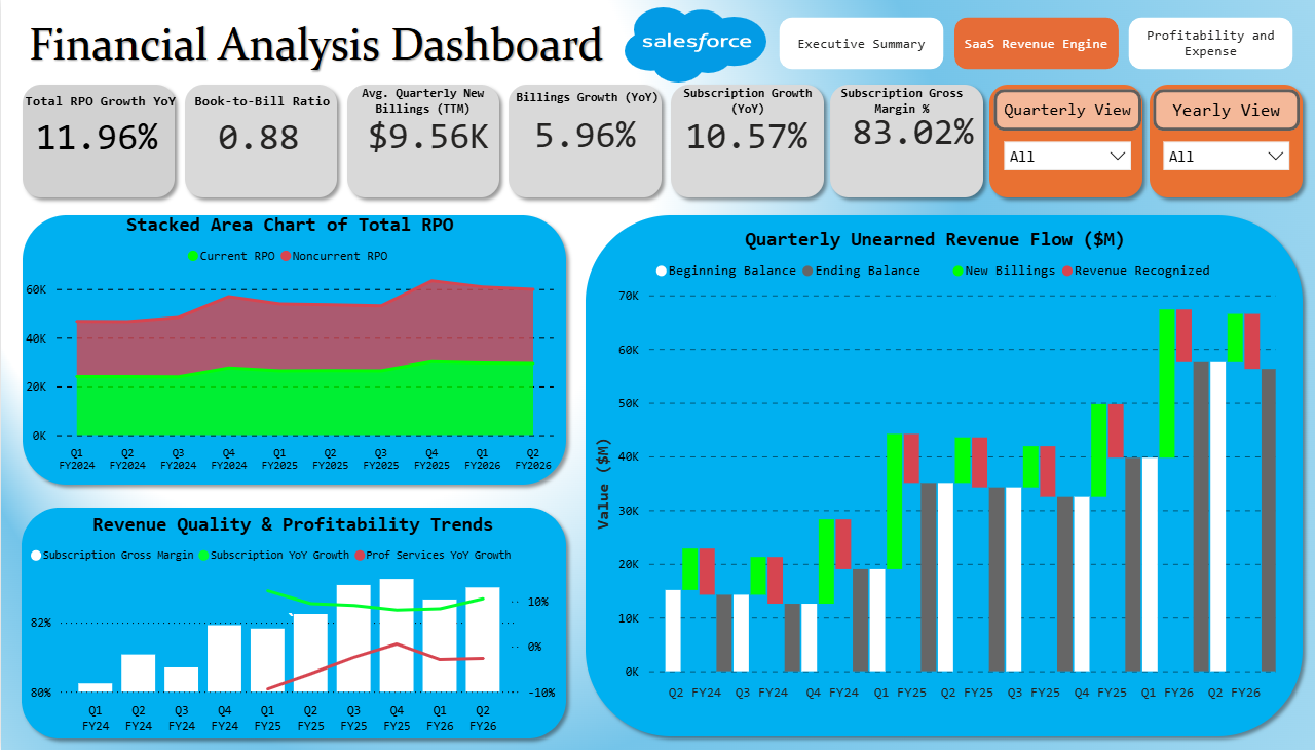

What the dashboard file says about the page in this screenshot:
{"tool":"powerbi","page":{"name":"SaaS Revenue Engine","canvas":[1280,720],"ordinal":1},"visuals":[{"type":"columnChart","title":"Quarterly Unearned Revenue Flow ($M)","fields":{"Y":["Sum(waterfall_table_corrected.Start Pillar)","Sum(waterfall_table_corrected.End Pillar)","Sum(waterfall_table_corrected.Invisible Base)","Sum(waterfall_table_corrected.Increase)","Sum(waterfall_table_corrected.Decrease)"],"Category":["waterfall_table_corrected.Quarter","waterfall_table_corrected.Quarter Sort"]},"box":[577.9,218.4,663.5,448.8],"z":0},{"type":"textbox","box":[645.4,651.5,65.1,30.2],"z":1000},{"type":"stackedAreaChart","title":"Stacked Area Chart of Total RPO","fields":{"Category":["Qdata.Period"],"Y":["Sum(Qdata.CurrentRPO (millions USD))","Sum(Qdata.NonCurrentRPO (millions USD))"]},"box":[15.7,205.1,529.6,255.8],"z":2000},{"type":"lineClusteredColumnComboChart","title":"Revenue Quality & Profitability Trends","fields":{"Category":["Bar Line and SRE.quarter"],"Y":["Bar Line and SRE.Subscription Gross Margin % (Column)"],"Y2":["Sum(Bar Line and SRE.Adjusted Sales)","Sum(Bar Line and SRE.Adjusted Prof)"]},"box":[24.1,492.2,521.2,218.4],"z":3000},{"type":"pageNavigator","box":[757.5,17.5,500,50],"z":4000},{"type":"textbox","box":[710.6,651.5,65.1,30.2],"z":5000},{"type":"textbox","box":[779.4,651.5,65.1,30.2],"z":6000},{"type":"textbox","box":[844.5,651.5,65.1,30.2],"z":7000},{"type":"textbox","box":[909.7,651.5,65.1,30.2],"z":8000},{"type":"textbox","box":[974.8,651.5,65.1,30.2],"z":9000},{"type":"textbox","box":[1040,651.5,65.1,30.2],"z":10000},{"type":"textbox","box":[1105.1,651.5,65.1,30.2],"z":11000},{"type":"textbox","box":[1170.2,651.5,65.1,30.2],"z":12000},{"type":"actionButton","box":[966.2,86.2,143.8,40],"z":13000},{"type":"actionButton","box":[1121.2,86.2,143,40],"z":14000},{"type":"slicer","fields":{"Values":["Qdata.Period"]},"box":[966.2,126.2,143.8,47.5],"z":15000},{"type":"slicer","fields":{"Values":["FYdata.Period"]},"box":[1121.2,126.2,142.5,47.5],"z":16000},{"type":"card","fields":{"Values":["Qdata.KPI 1: Total RPO (PY)"]},"box":[19.2,94.7,149.6,70],"z":17000},{"type":"card","fields":{"Values":["Qdata.KPI 2: Book-to-Bill Ratio"]},"box":[175.6,94.7,149.6,70],"z":18000},{"type":"card","fields":{"Values":["Qdata.Final KPI 4: Billings Growth (YoY)"]},"box":[493.2,93.3,150.1,69.4],"z":19000},{"type":"card","fields":{"Values":["Qdata.Final KPI 3: Avg. Quarterly New Billings (TTM)"]},"box":[341.7,93.3,150.9,70],"z":20000},{"type":"card","fields":{"Values":["Qdata.KPI 5: Subscription Growth (YoY)"]},"box":[651.8,93.3,149.6,70],"z":21000},{"type":"card","fields":{"Values":["Qdata.KPI 6: Subscription Gross Margin %"]},"box":[812.4,90.6,150.9,70],"z":22000},{"type":"shape","box":[18.8,80,156.2,35.6],"z":23000},{"type":"shape","box":[175.6,79.6,156.4,35.7],"z":24000},{"type":"shape","box":[332.1,79.6,156.4,35.7],"z":25000},{"type":"shape","box":[492.6,76.8,156.4,35.7],"z":26000},{"type":"shape","box":[649.1,79.6,156.4,35.7],"z":27000},{"type":"shape","box":[798.6,79.6,156.4,35.7],"z":28000}]}

Visuals, with their boxes in screenshot pixels (x1, y1, x2, y2), scaled from the page's 1280x720 canvas onto the 1315x750 screenshot:
"Quarterly Unearned Revenue Flow ($M)" columnChart: {"x1": 594, "y1": 228, "x2": 1275, "y2": 695}
textbox: {"x1": 663, "y1": 679, "x2": 730, "y2": 710}
"Stacked Area Chart of Total RPO" stackedAreaChart: {"x1": 16, "y1": 214, "x2": 560, "y2": 480}
"Revenue Quality & Profitability Trends" lineClusteredColumnComboChart: {"x1": 25, "y1": 513, "x2": 560, "y2": 740}
pageNavigator: {"x1": 778, "y1": 18, "x2": 1292, "y2": 70}
textbox: {"x1": 730, "y1": 679, "x2": 797, "y2": 710}
textbox: {"x1": 801, "y1": 679, "x2": 868, "y2": 710}
textbox: {"x1": 868, "y1": 679, "x2": 934, "y2": 710}
textbox: {"x1": 935, "y1": 679, "x2": 1001, "y2": 710}
textbox: {"x1": 1001, "y1": 679, "x2": 1068, "y2": 710}
textbox: {"x1": 1068, "y1": 679, "x2": 1135, "y2": 710}
textbox: {"x1": 1135, "y1": 679, "x2": 1202, "y2": 710}
textbox: {"x1": 1202, "y1": 679, "x2": 1269, "y2": 710}
actionButton: {"x1": 993, "y1": 90, "x2": 1140, "y2": 131}
actionButton: {"x1": 1152, "y1": 90, "x2": 1299, "y2": 131}
slicer - Qdata.Period: {"x1": 993, "y1": 131, "x2": 1140, "y2": 181}
slicer - FYdata.Period: {"x1": 1152, "y1": 131, "x2": 1298, "y2": 181}
card - Qdata.KPI 1: Total RPO (PY): {"x1": 20, "y1": 99, "x2": 173, "y2": 172}
card - Qdata.KPI 2: Book-to-Bill Ratio: {"x1": 180, "y1": 99, "x2": 334, "y2": 172}
card - Qdata.Final KPI 4: Billings Growth (YoY): {"x1": 507, "y1": 97, "x2": 661, "y2": 169}
card - Qdata.Final KPI 3: Avg. Quarterly New Billings (TTM): {"x1": 351, "y1": 97, "x2": 506, "y2": 170}
card - Qdata.KPI 5: Subscription Growth (YoY): {"x1": 670, "y1": 97, "x2": 823, "y2": 170}
card - Qdata.KPI 6: Subscription Gross Margin %: {"x1": 835, "y1": 94, "x2": 990, "y2": 167}
shape: {"x1": 19, "y1": 83, "x2": 180, "y2": 120}
shape: {"x1": 180, "y1": 83, "x2": 341, "y2": 120}
shape: {"x1": 341, "y1": 83, "x2": 502, "y2": 120}
shape: {"x1": 506, "y1": 80, "x2": 667, "y2": 117}
shape: {"x1": 667, "y1": 83, "x2": 828, "y2": 120}
shape: {"x1": 820, "y1": 83, "x2": 981, "y2": 120}
